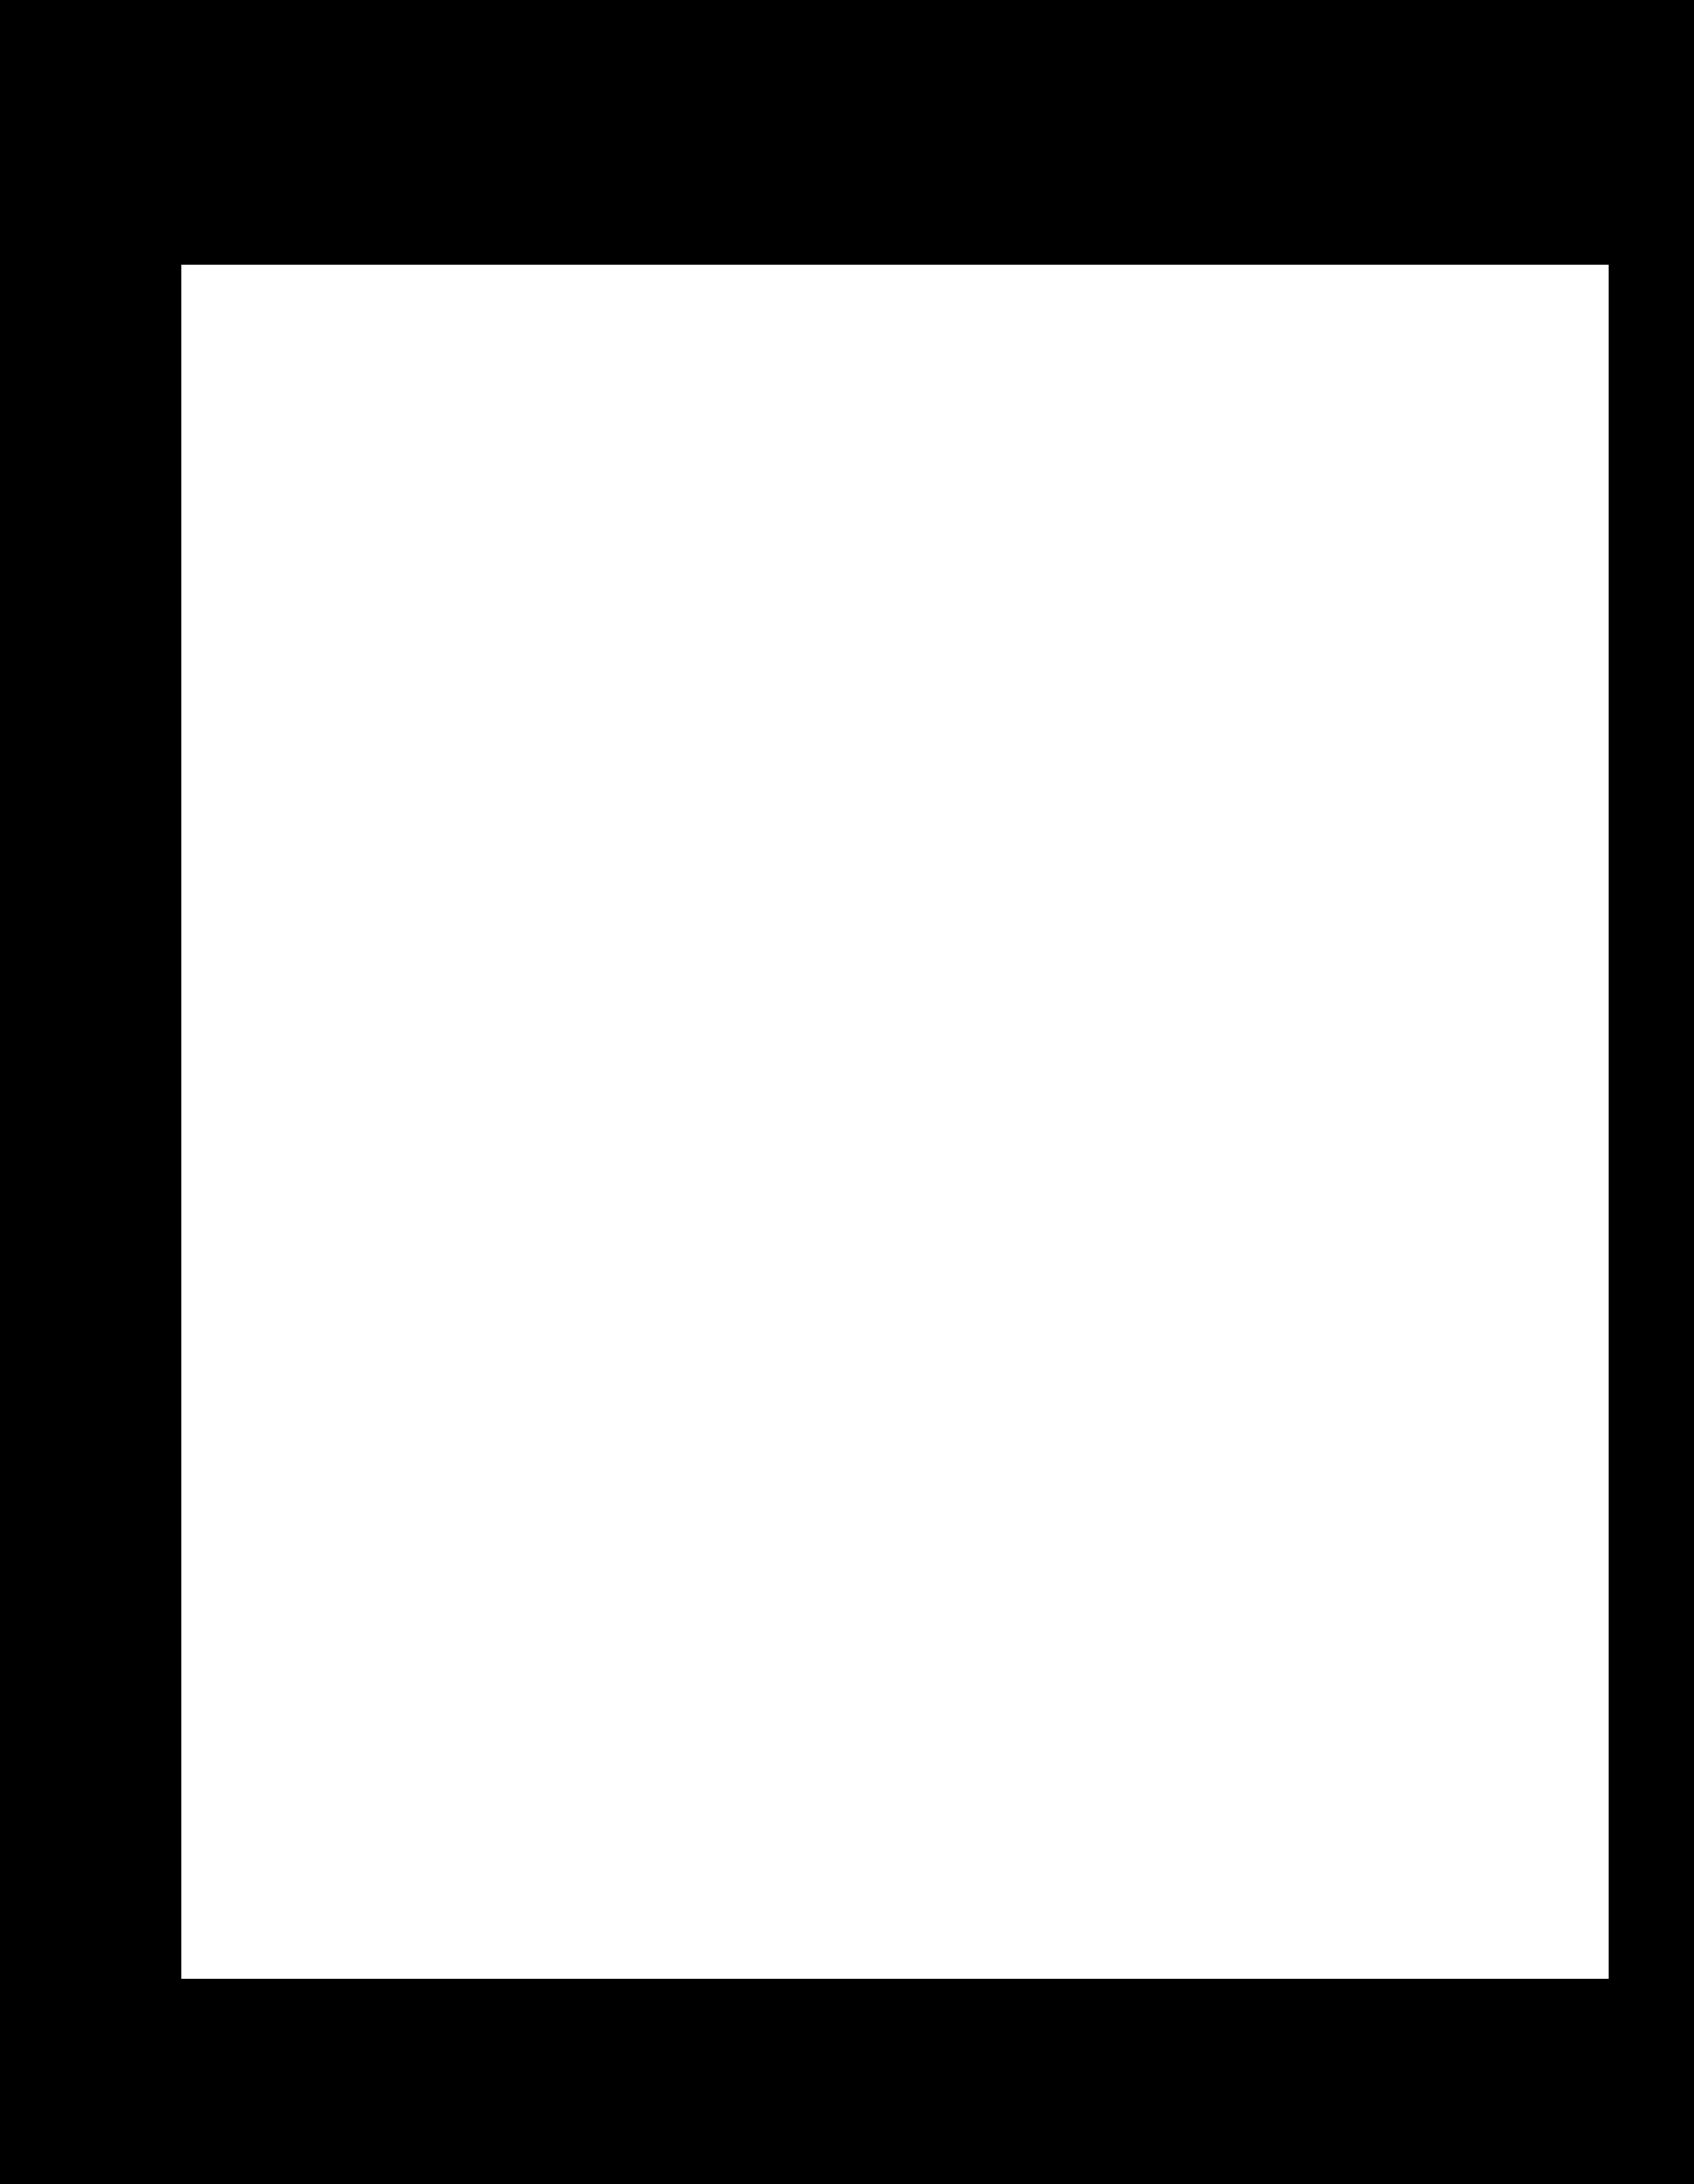table: (181, 264, 1607, 1978)
